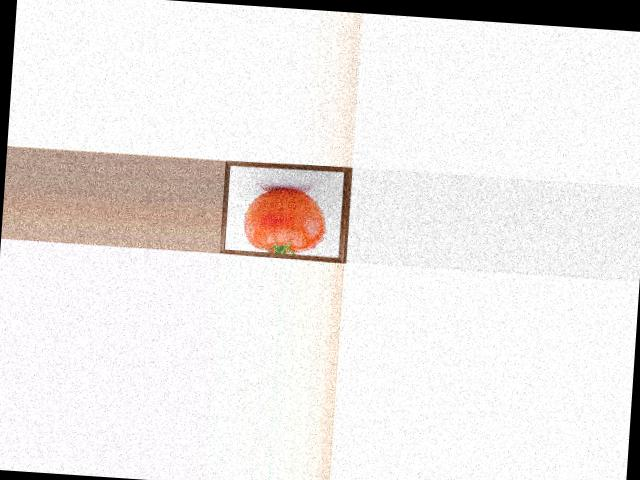tomato: (242, 185, 328, 256)
